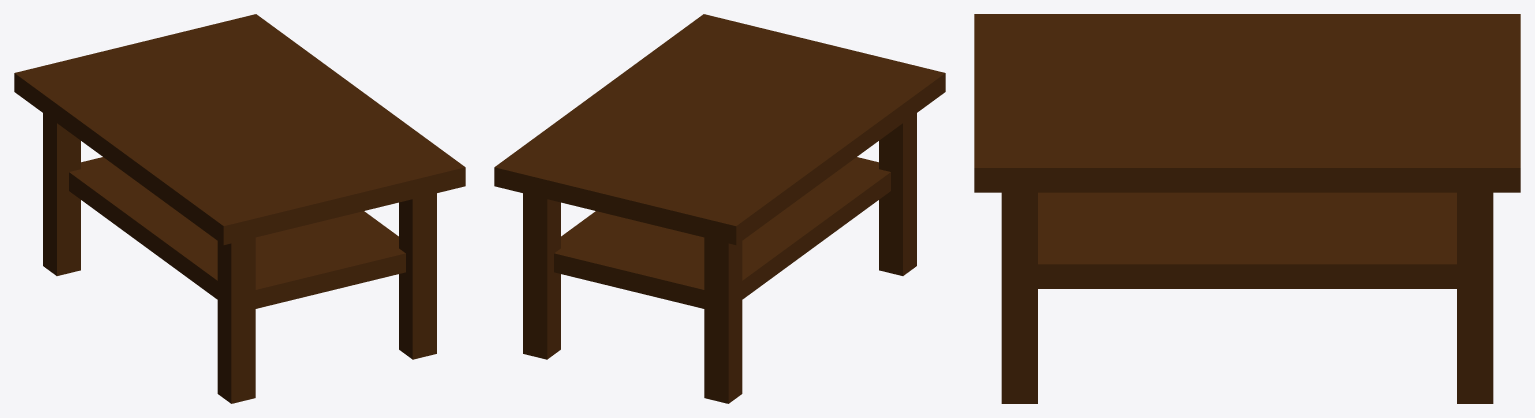
The model's file is coffee table.obj.
The picture shows the model from 3 angles, left to right: view 1: azimuth 30°, elevation 25°; view 2: azimuth 150°, elevation 25°; view 3: azimuth 270°, elevation 25°; orthographic projection. The views are drawn at different scales.
Size of the model in its own units: 4 by 3 by 6.
Materials: 1 (1 with a texture image).
